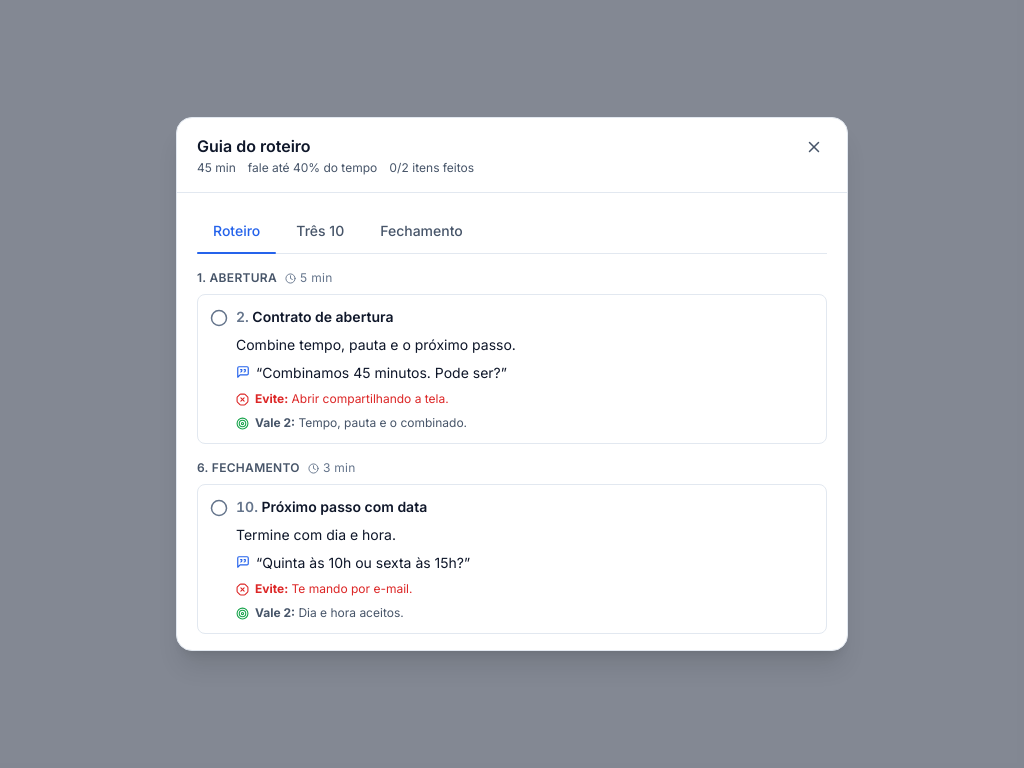
Test: GuiaRoteiro › aba Fechamento mostra a técnica, a frase e a pergunta final
Expected: the text "Contrato de abertura" is shown, [252,308,394,325]
Click the tab with test id "tab-guia-fechamento" at (422, 231), box [364,209,479,253]
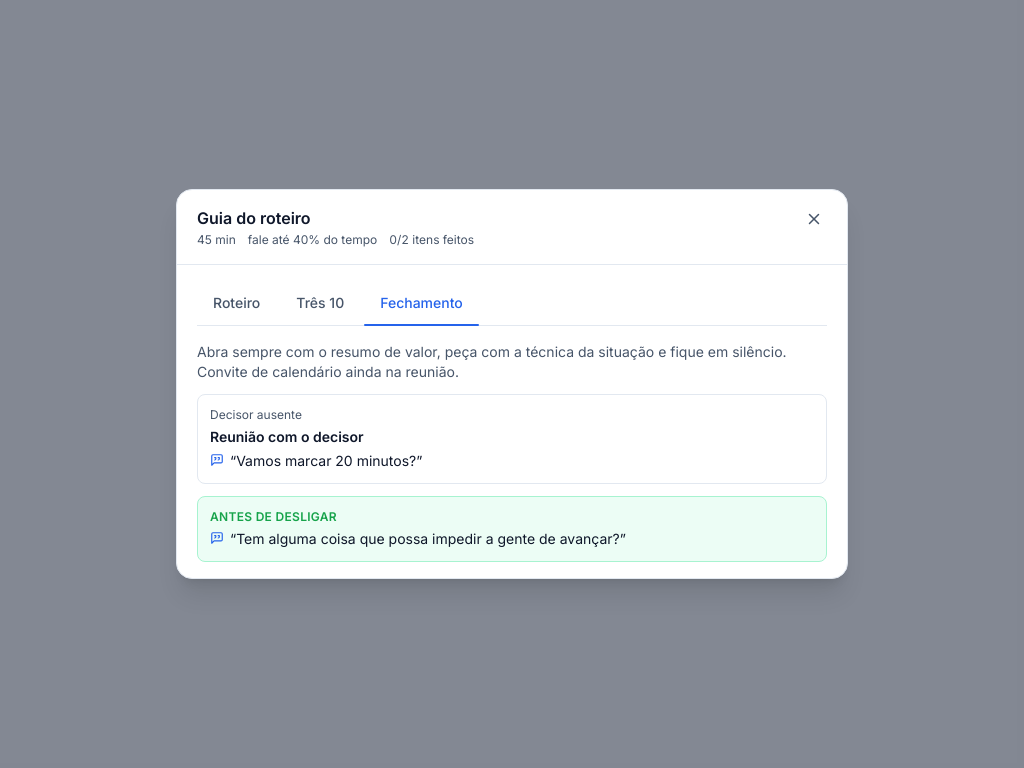
Result: the text "Reunião com o decisor" is shown at [210,428,364,445]
Result: the text "“Vamos marcar 20 minutos?”" is shown at [230,451,422,471]
Result: the text "“Tem alguma coisa que possa impedir a gente de avançar?”" is shown at [230,529,626,549]
